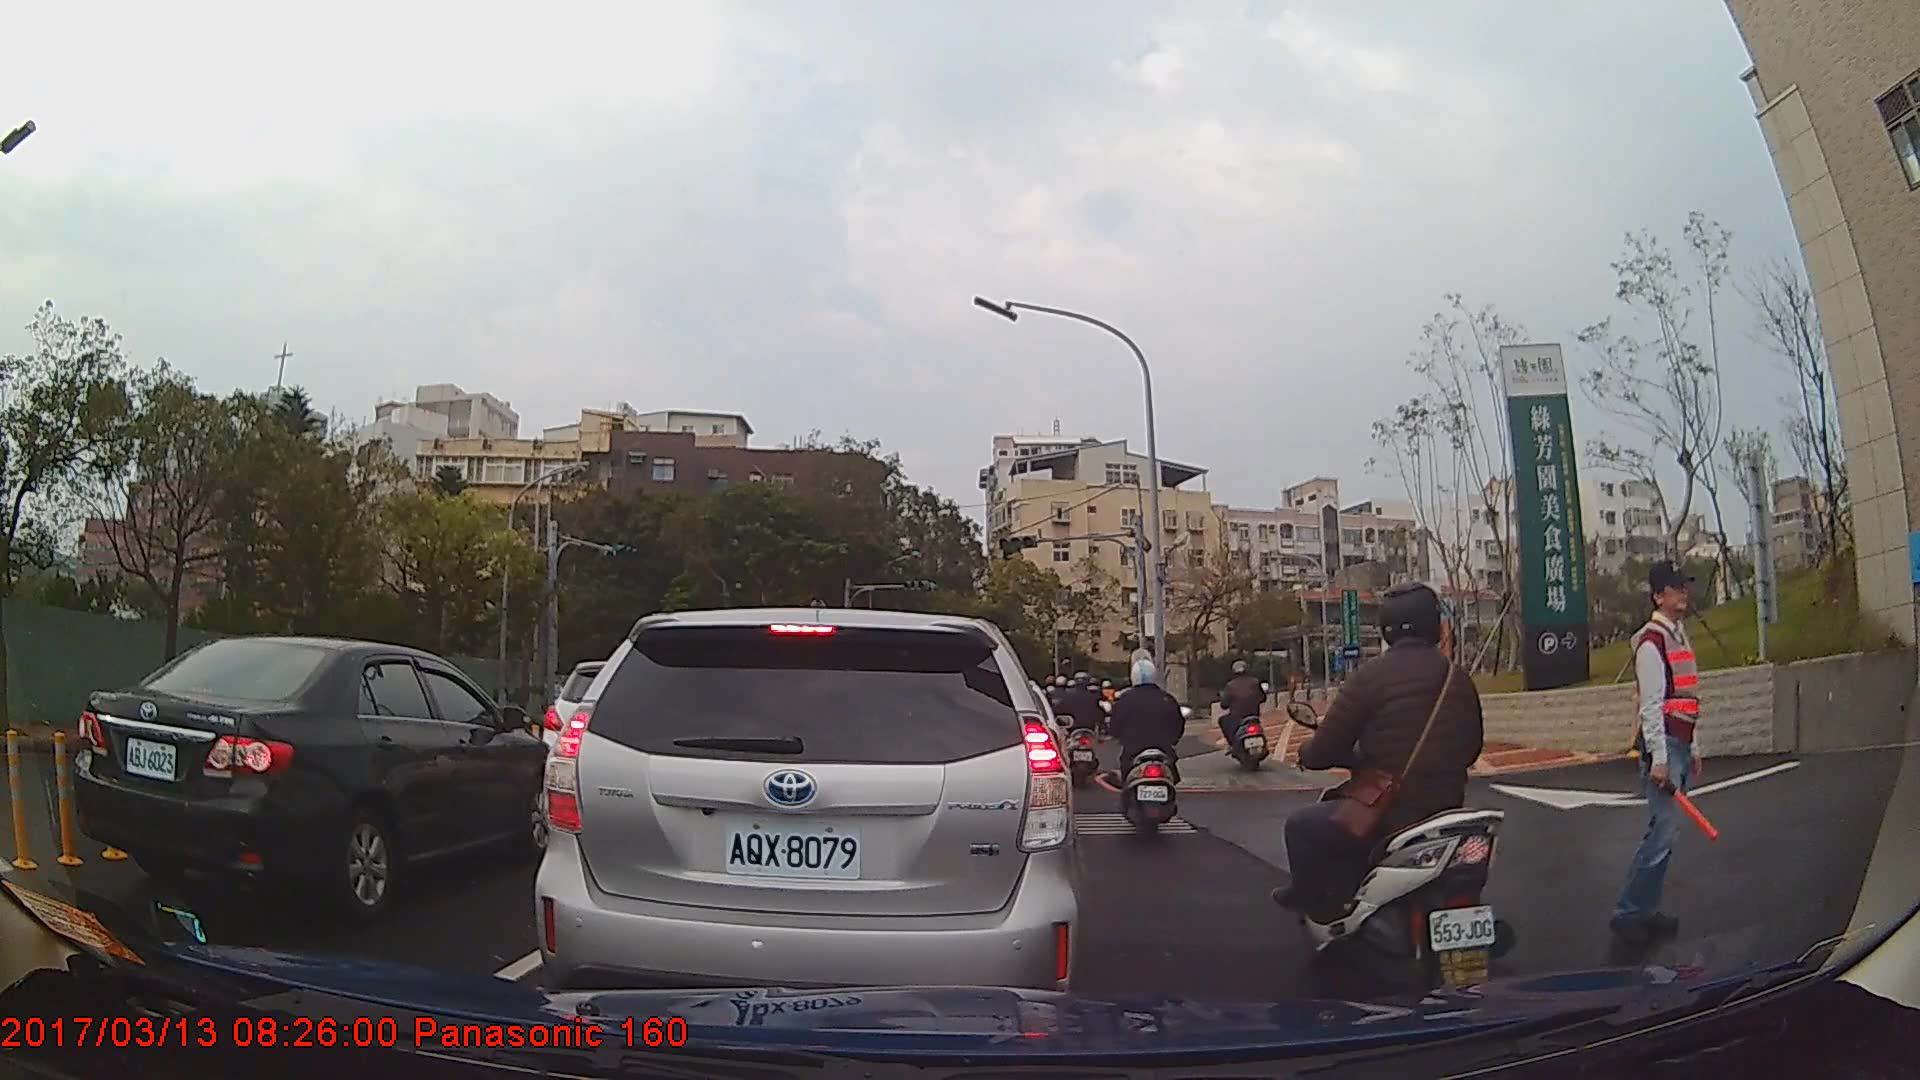pedestrian: (1615, 557, 1720, 942)
rider: (1284, 580, 1515, 1003), (1107, 656, 1189, 843), (1220, 662, 1275, 778), (1058, 671, 1104, 787)
vehicle: (534, 604, 1082, 1040), (76, 632, 563, 920)
